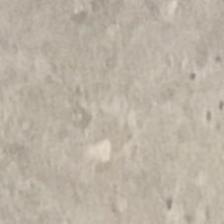Non_Crack: (31, 24, 208, 178)
